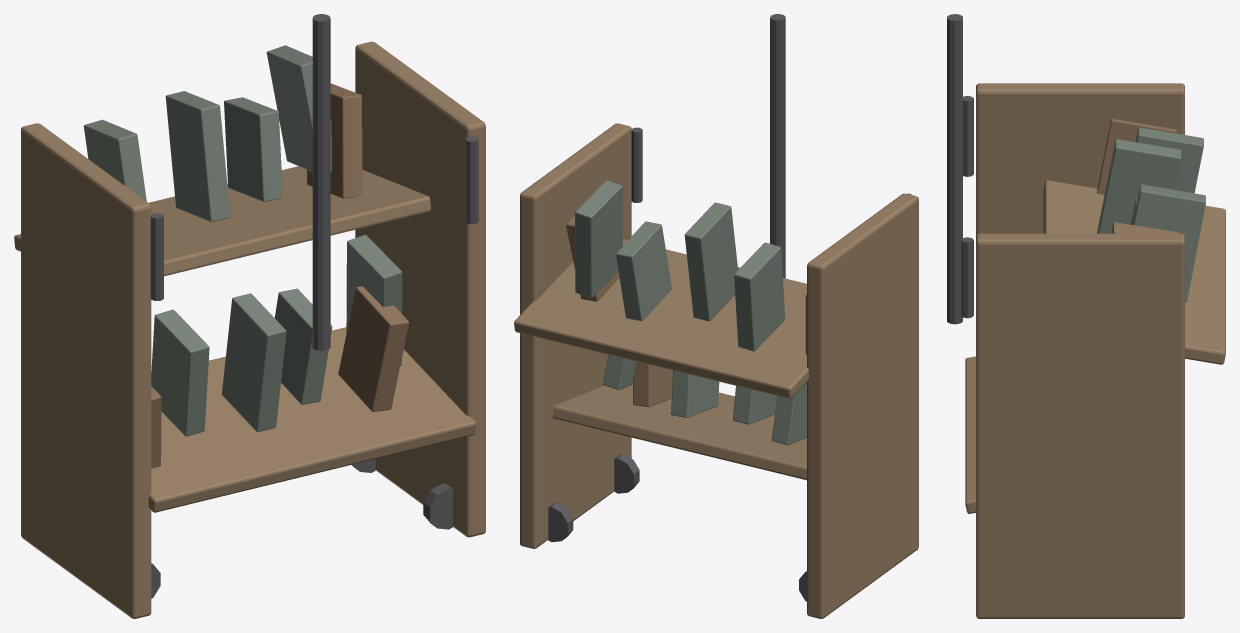
3 renders of one model, left to right at view 1: azimuth 30°, elevation 25°; view 2: azimuth 150°, elevation 25°; view 3: azimuth 270°, elevation 25°, orthographic. The views are drawn at different scales.
Parts seen in each view (by area): view 1: bookCart; view 2: bookCart; view 3: bookCart.
Boxes of the visible parts, x1=… form: bookCart: x1=14, y1=14, x2=485, y2=618; bookCart: x1=514, y1=14, x2=918, y2=618; bookCart: x1=947, y1=14, x2=1225, y2=618.
Size of the model in its own units: 0.9 by 1.38 by 0.6664.
